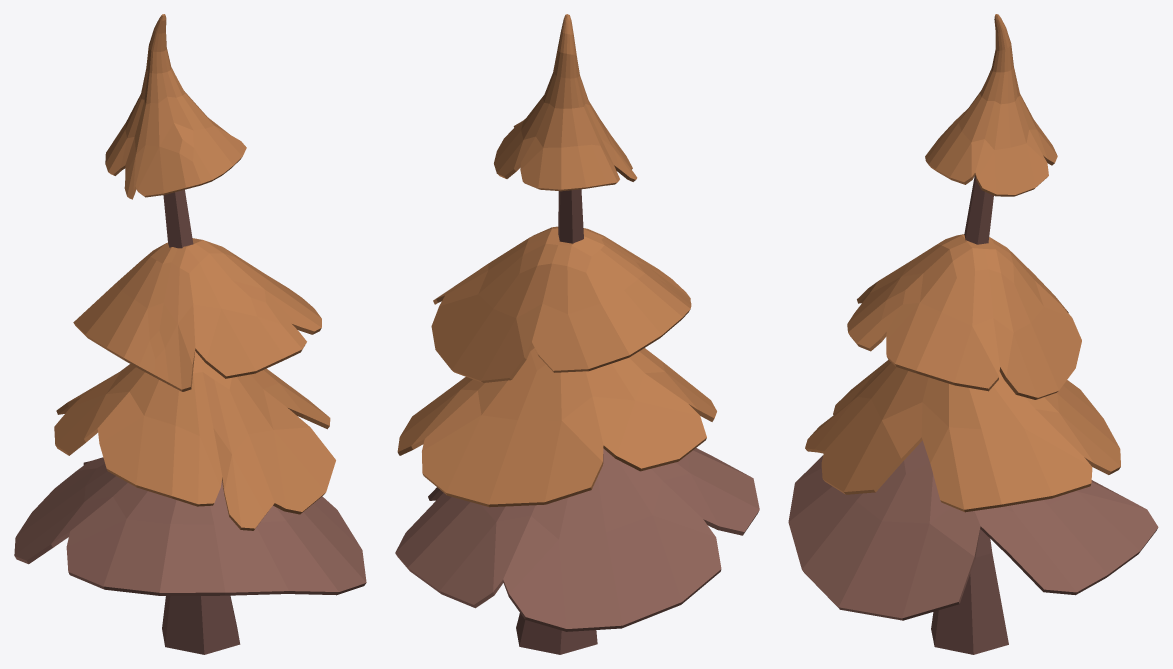
File: pinetree_autumn_2.glb
3 renders of one model, left to right at view 1: azimuth 30°, elevation 25°; view 2: azimuth 150°, elevation 25°; view 3: azimuth 270°, elevation 25°, orthographic. The views are drawn at different scales.
Parts seen in each view (by area): view 1: PineTree_Autumn_2; view 2: PineTree_Autumn_2; view 3: PineTree_Autumn_2.
Boxes of the visible parts, bbox=[...] form: PineTree_Autumn_2: bbox=[14, 14, 366, 654]; PineTree_Autumn_2: bbox=[395, 14, 759, 654]; PineTree_Autumn_2: bbox=[788, 14, 1158, 654].
Size of the model in its own units: 4.31 by 8.56 by 4.7.
